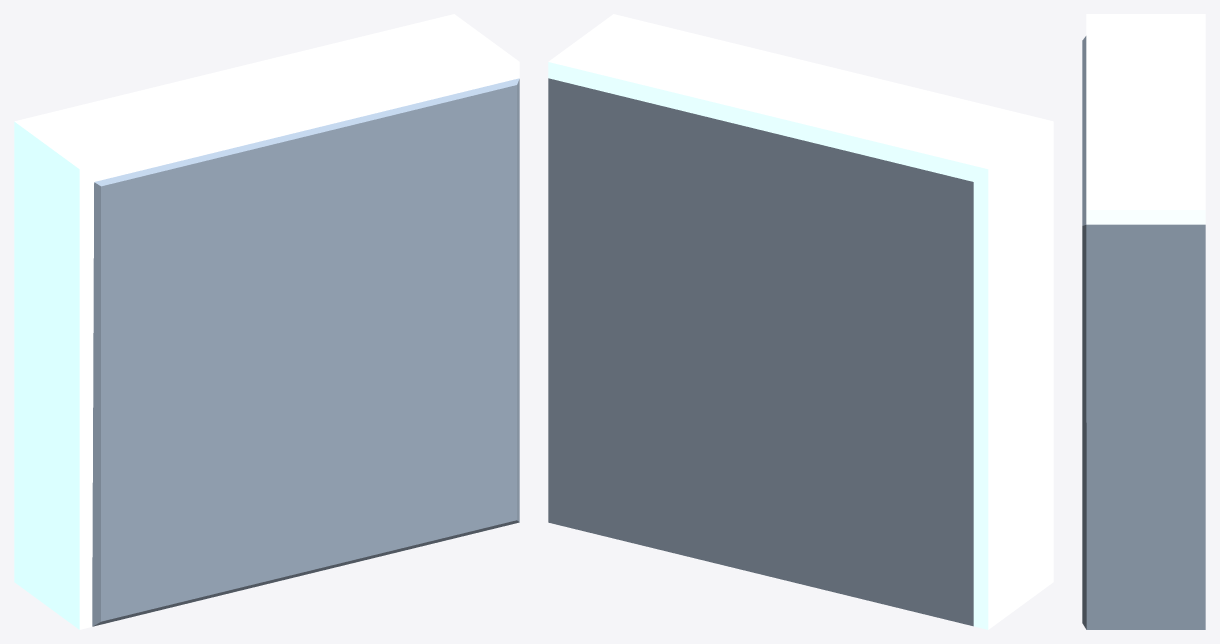
The model's file is floor1-5_low.fbx.
3 views of the same model, side by side, from view 1: azimuth 30°, elevation 25°; view 2: azimuth 150°, elevation 25°; view 3: azimuth 270°, elevation 25° (orthographic). The views are drawn at different scales.
Parts seen in each view (by area): view 1: floor1-5_low; view 2: floor1-5_low; view 3: floor1-5_low.
Boxes of the visible parts, x1,y1,x2,y2 form: floor1-5_low: (14, 14, 519, 629); floor1-5_low: (548, 14, 1053, 629); floor1-5_low: (1082, 14, 1205, 629).
Bounding box in the file's own units: 150 × 150 × 40.
